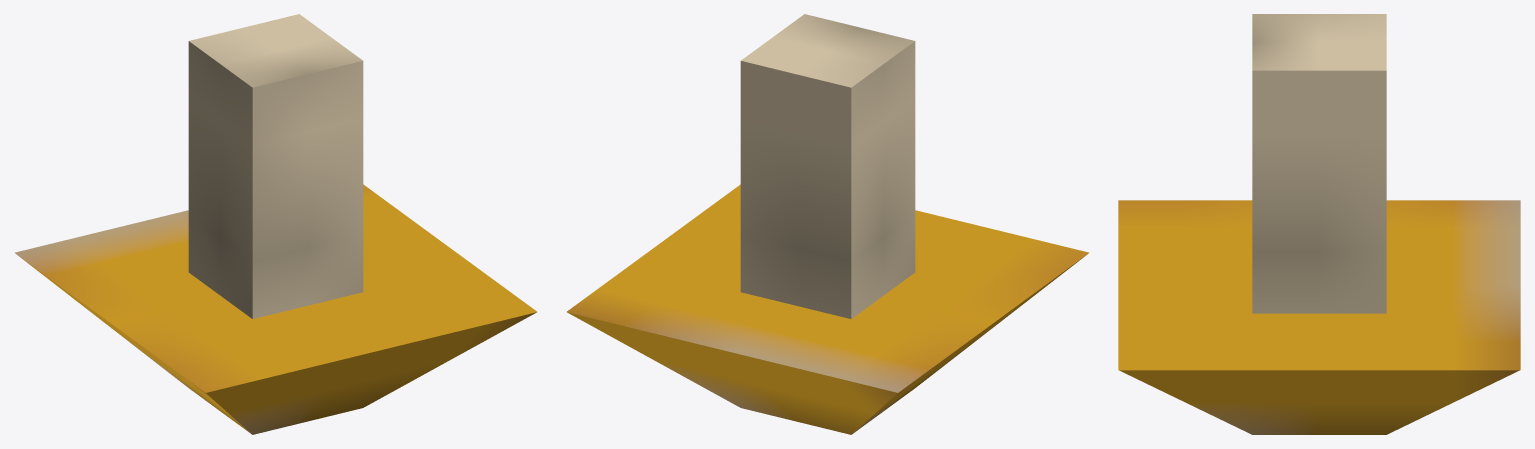
The model's file is Candle.fbx.
3 renders of one model, left to right at view 1: azimuth 30°, elevation 25°; view 2: azimuth 150°, elevation 25°; view 3: azimuth 270°, elevation 25°, orthographic. The views are drawn at different scales.
Parts seen in each view (by area): view 1: Cube.018; view 2: Cube.018; view 3: Cube.018.
Boxes of the visible parts, <box> form: Cube.018: <box>14,14,536,434</box>; Cube.018: <box>567,14,1089,434</box>; Cube.018: <box>1118,14,1520,434</box>.
Bounding box in the file's own units: 0.1875 × 0.1875 × 0.1875.
